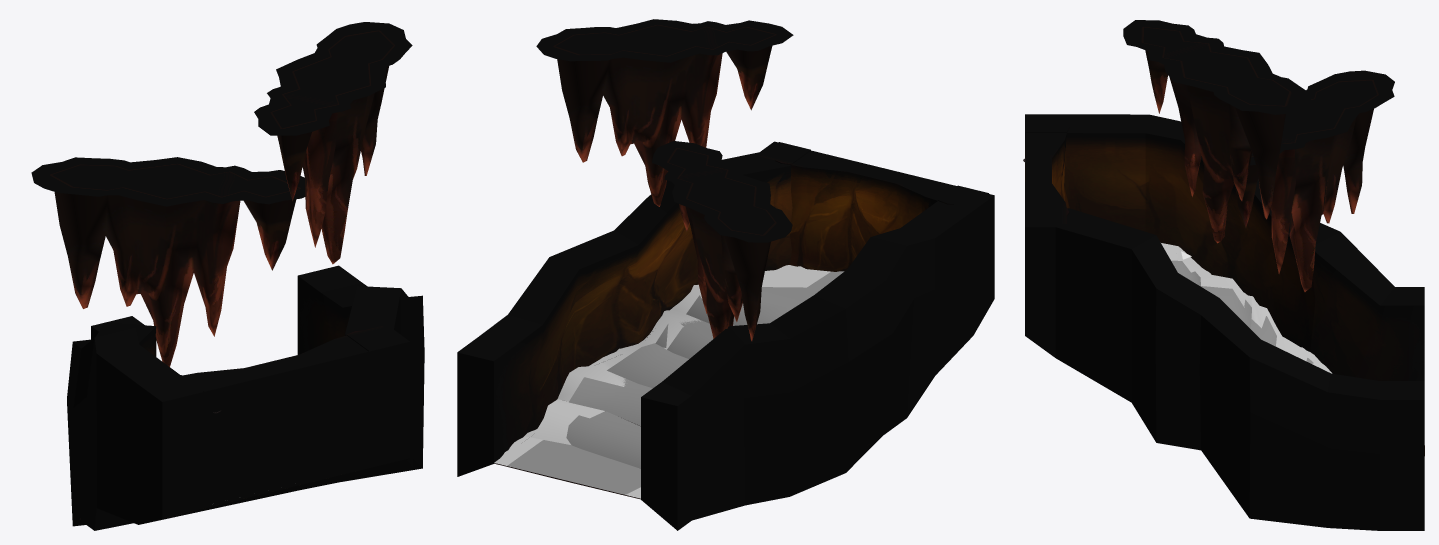
Rendered from Dungeon_062_GoalStepD_003.fbx.
3 views of the same model, side by side, from view 1: azimuth 30°, elevation 25°; view 2: azimuth 150°, elevation 25°; view 3: azimuth 270°, elevation 25° (orthographic). The views are drawn at different scales.
Parts seen in each view (by area): view 1: Dun_062_StepD_001_wall, Dungeon_011_Iwa004_1, Dun_062_Door_002, Dungeon_011_Iwa004_1 (1); view 2: Dun_062_StepD_001_wall, Dungeon_011_Iwa004_1 (1), Dun_062_StepD_001_Nav, Dungeon_011_Iwa004_1, Dun_062_Door_002, Dun_062_StepD_001_shadow; view 3: Dun_062_StepD_001_wall, Dungeon_011_Iwa004_1 (1), Dungeon_011_Iwa004_1, Dun_062_Door_002, Dun_062_StepD_001_shadow, Dun_062_StepD_001_Nav.
Boxes of the visible parts, x1=… form: Dun_062_StepD_001_wall: x1=67, y1=265, x2=424, y2=530; Dungeon_011_Iwa004_1: x1=31, y1=157, x2=305, y2=366; Dun_062_Door_002: x1=146, y1=326, x2=404, y2=508; Dungeon_011_Iwa004_1 (1): x1=254, y1=22, x2=412, y2=264; Dun_062_StepD_001_wall: x1=457, y1=141, x2=994, y2=530; Dungeon_011_Iwa004_1 (1): x1=536, y1=19, x2=793, y2=206; Dun_062_StepD_001_Nav: x1=507, y1=271, x2=844, y2=494; Dungeon_011_Iwa004_1: x1=652, y1=141, x2=792, y2=341; Dun_062_Door_002: x1=759, y1=142, x2=988, y2=271; Dun_062_StepD_001_shadow: x1=494, y1=265, x2=830, y2=498; Dun_062_StepD_001_wall: x1=1025, y1=114, x2=1424, y2=530; Dungeon_011_Iwa004_1 (1): x1=1123, y1=20, x2=1310, y2=243; Dungeon_011_Iwa004_1: x1=1235, y1=70, x2=1394, y2=291; Dun_062_Door_002: x1=1025, y1=116, x2=1069, y2=223; Dun_062_StepD_001_shadow: x1=1161, y1=243, x2=1332, y2=373; Dun_062_StepD_001_Nav: x1=1171, y1=260, x2=1313, y2=363.
Size of the model in its own units: 7.11 by 7.6 by 6.77.
